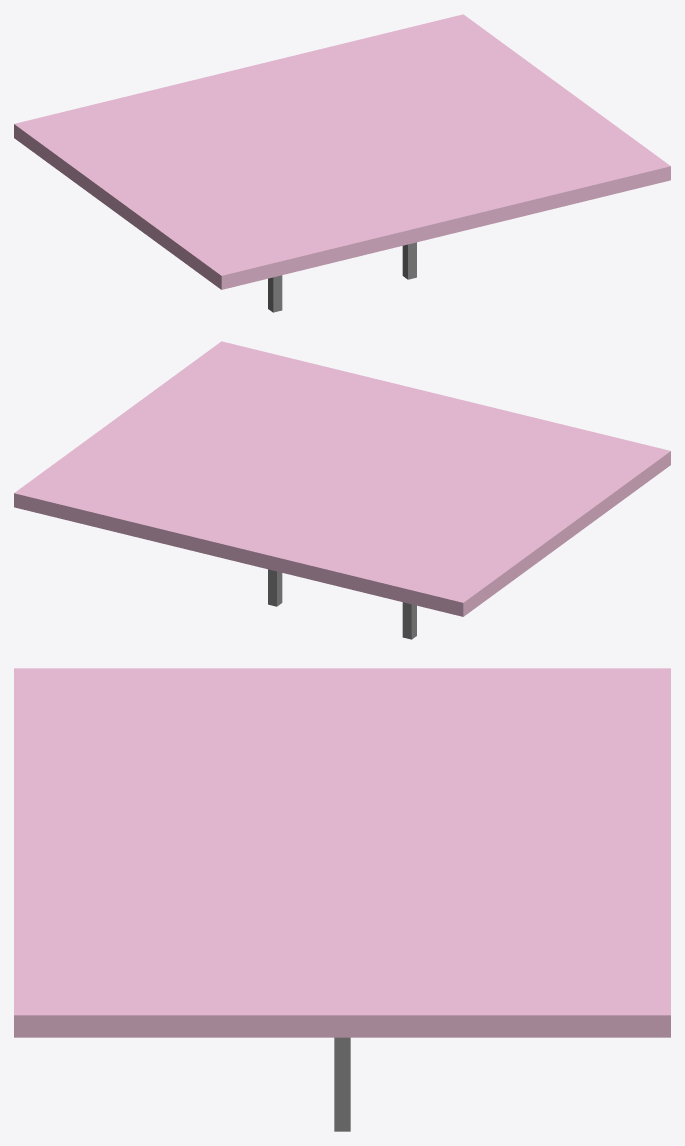
Rendered from peach-parasol.glb.
The picture shows the model from 3 angles, top to bottom: view 1: azimuth 30°, elevation 25°; view 2: azimuth 150°, elevation 25°; view 3: azimuth 270°, elevation 25°; orthographic projection. The views are drawn at different scales.
Visible parts, largest first — view 1: peach-parasol; view 2: peach-parasol; view 3: peach-parasol.
Part boxes in pixels (box(x1,y1,x2,y2)): peach-parasol: box(14, 14, 670, 312); peach-parasol: box(14, 341, 670, 639); peach-parasol: box(14, 668, 670, 1131).
Size of the model in its own units: 2 by 0.63 by 1.6.
